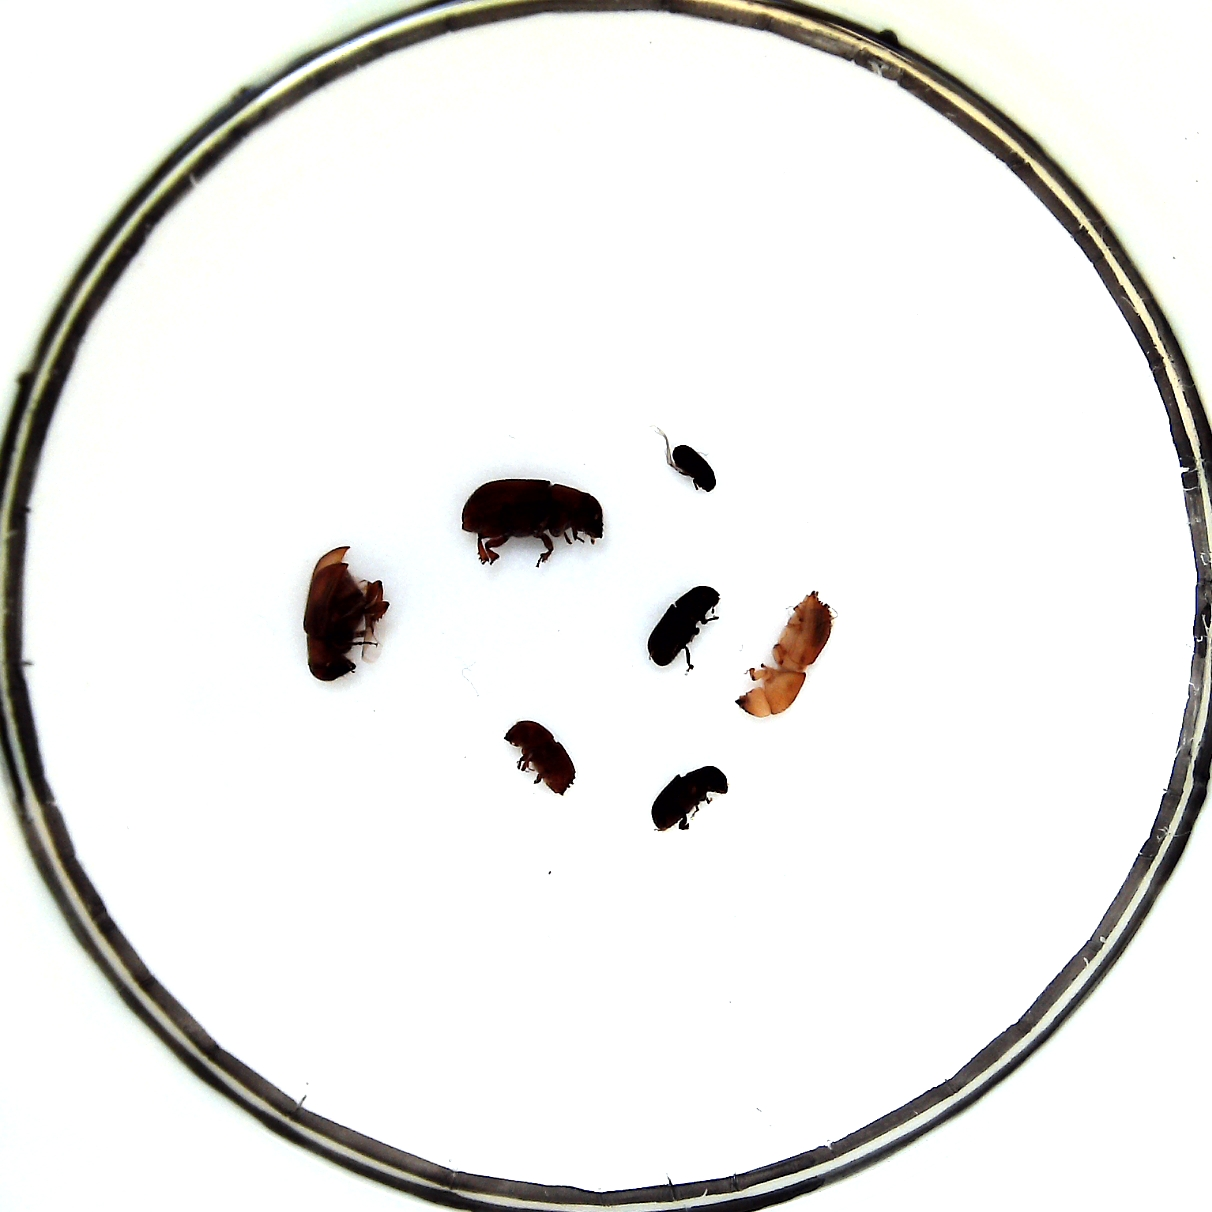Boerner: (734, 592, 832, 718)
Leconte: (302, 546, 388, 681)
armandi: (647, 586, 720, 665), (652, 765, 728, 830)
coleoptera: (671, 445, 717, 492)
linnaeus: (459, 476, 604, 544), (504, 721, 577, 797)
